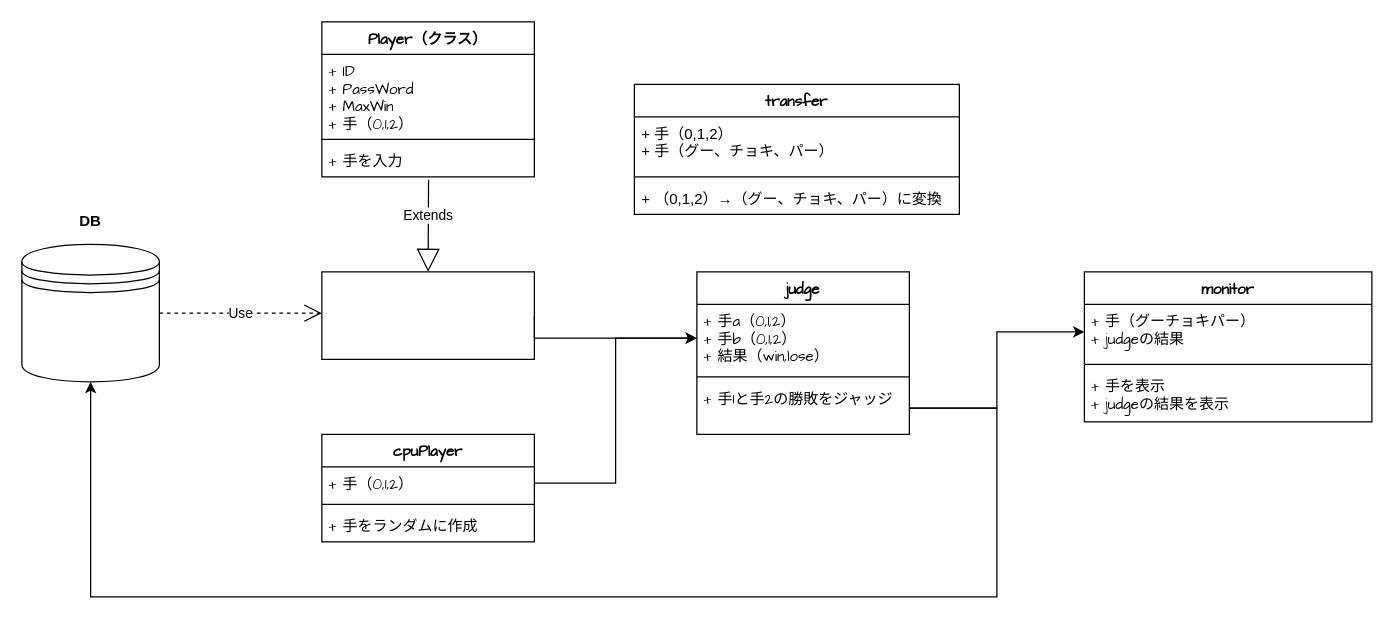
This 1394x629 diagram has some shape labels left out. Each missing label, with the centre of its shape:
ID PassWord MaxWin: [90,312]
visitorPlayer （インスタンス）: [427,315]
